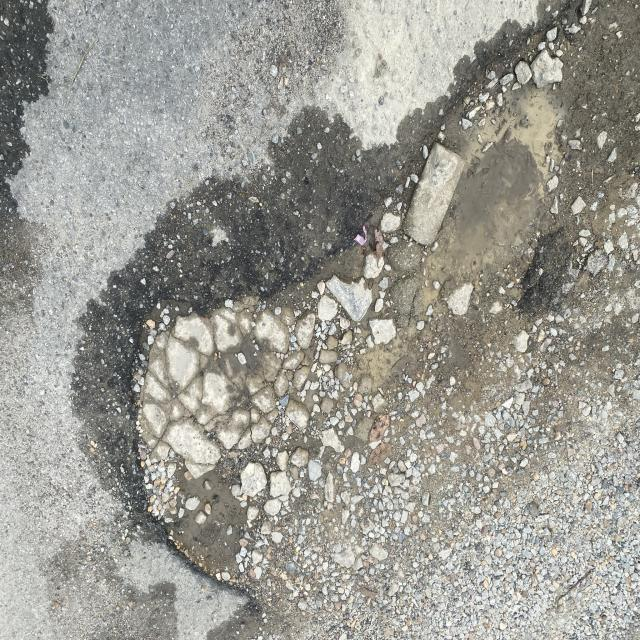pothole: (111, 78, 640, 435)
